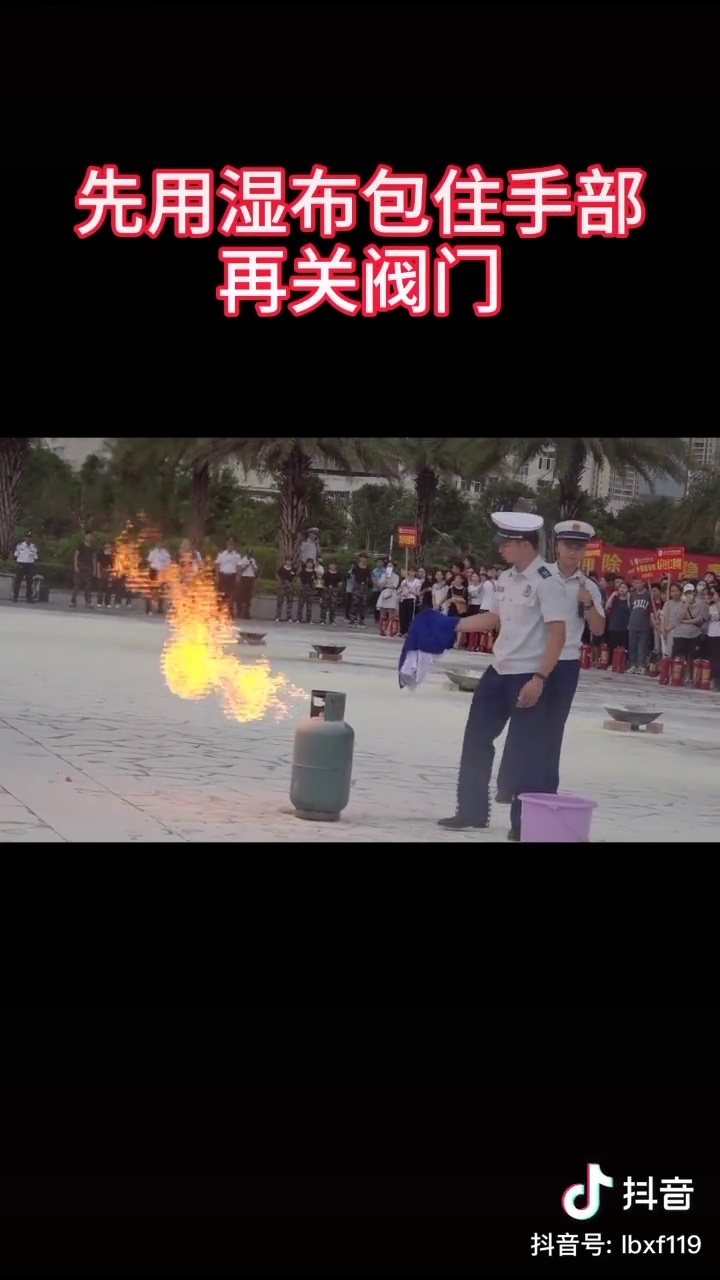fire: (111, 524, 278, 720)
